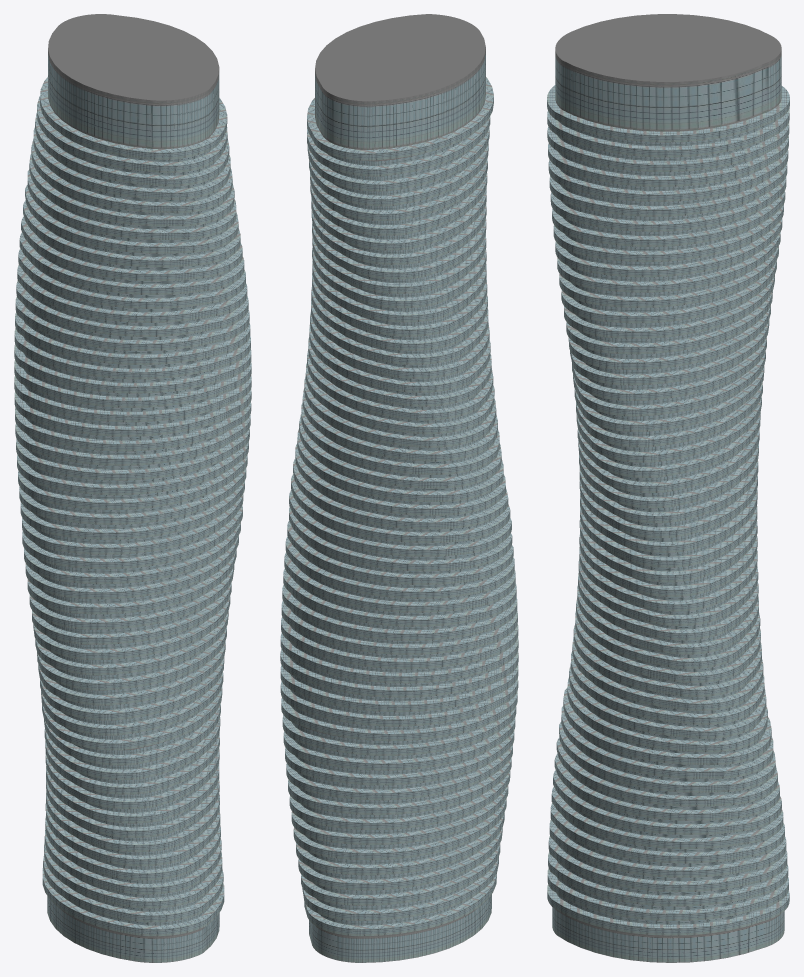
The model's file is ABSOLUTEWORLD.obj.
3 renders of one model, left to right at view 1: azimuth 30°, elevation 25°; view 2: azimuth 150°, elevation 25°; view 3: azimuth 270°, elevation 25°, orthographic. The views are drawn at different scales.
Size of the model in its own units: 44574 by 178003 by 44574.
Materials: 6 (5 with a texture image).
